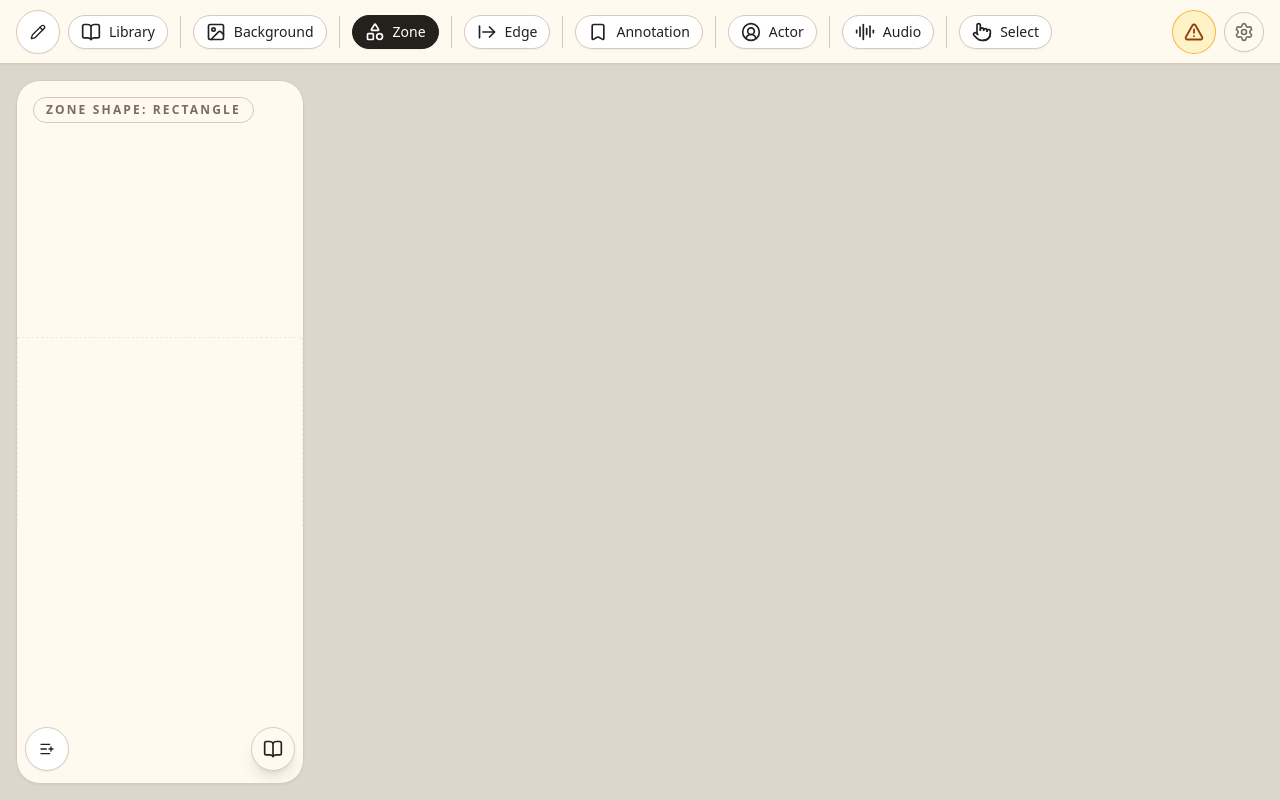
Test: Audio Library preview › offers only the opposite icon and shares changes with linked cards
This screenshot has width=1280, height=800.
Click the button "Library". click: (118, 32)
box: [68, 14, 168, 48]
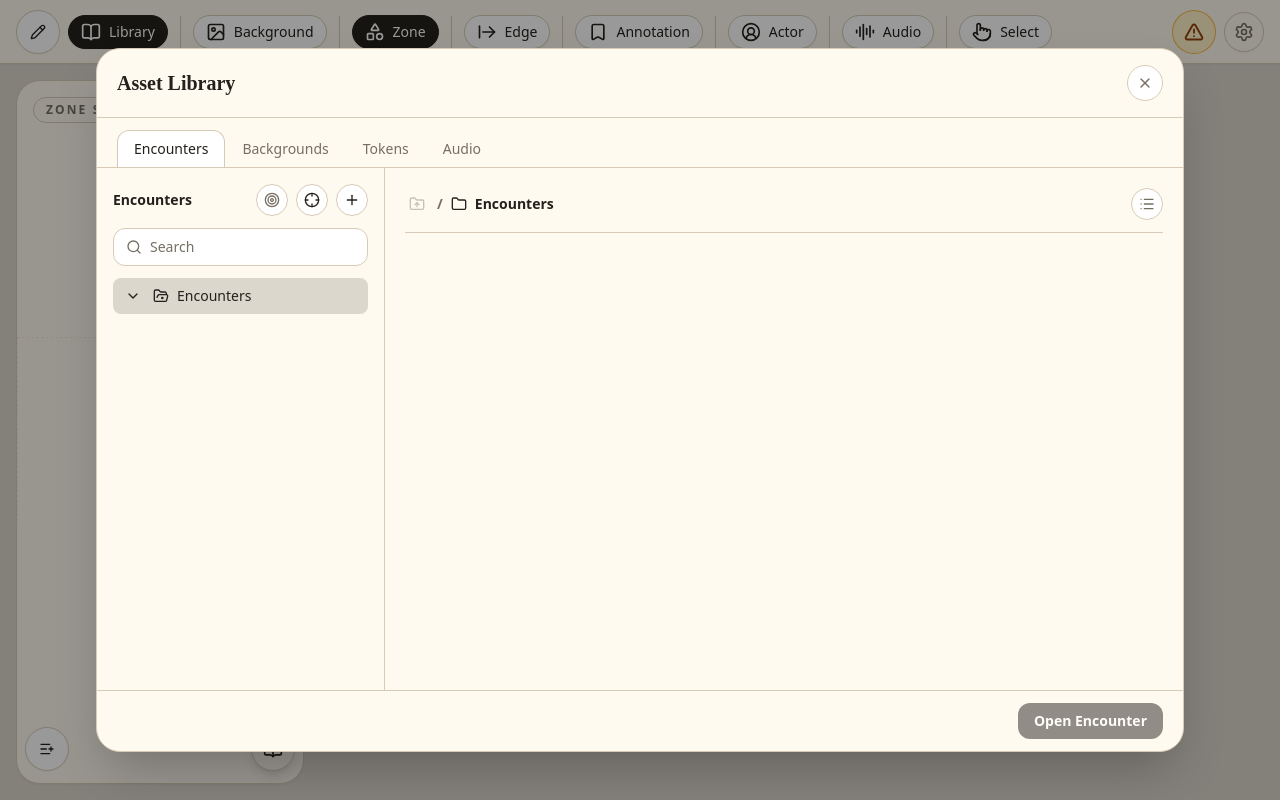
Click the tab "Audio". click: (462, 148)
box: [426, 130, 498, 167]
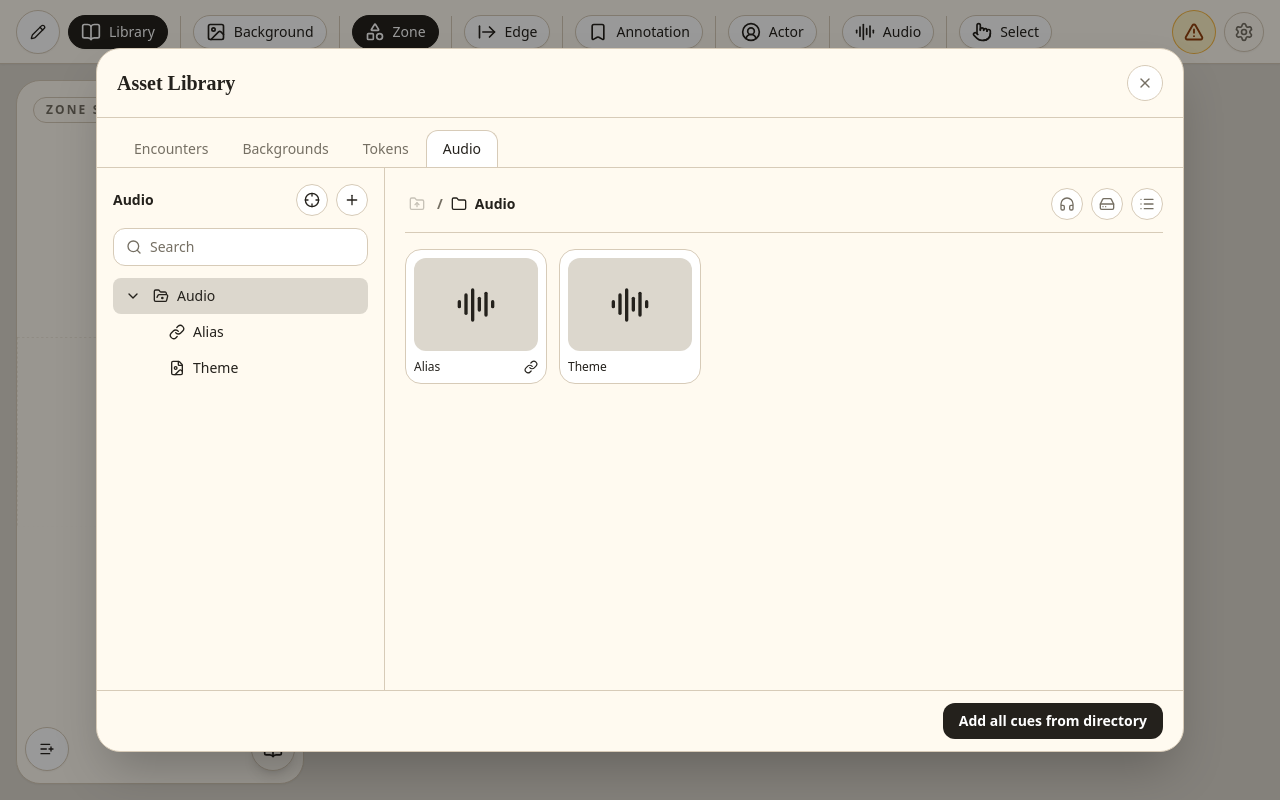
Right-click the button "Theme" at (630, 316), box [559, 249, 701, 384]
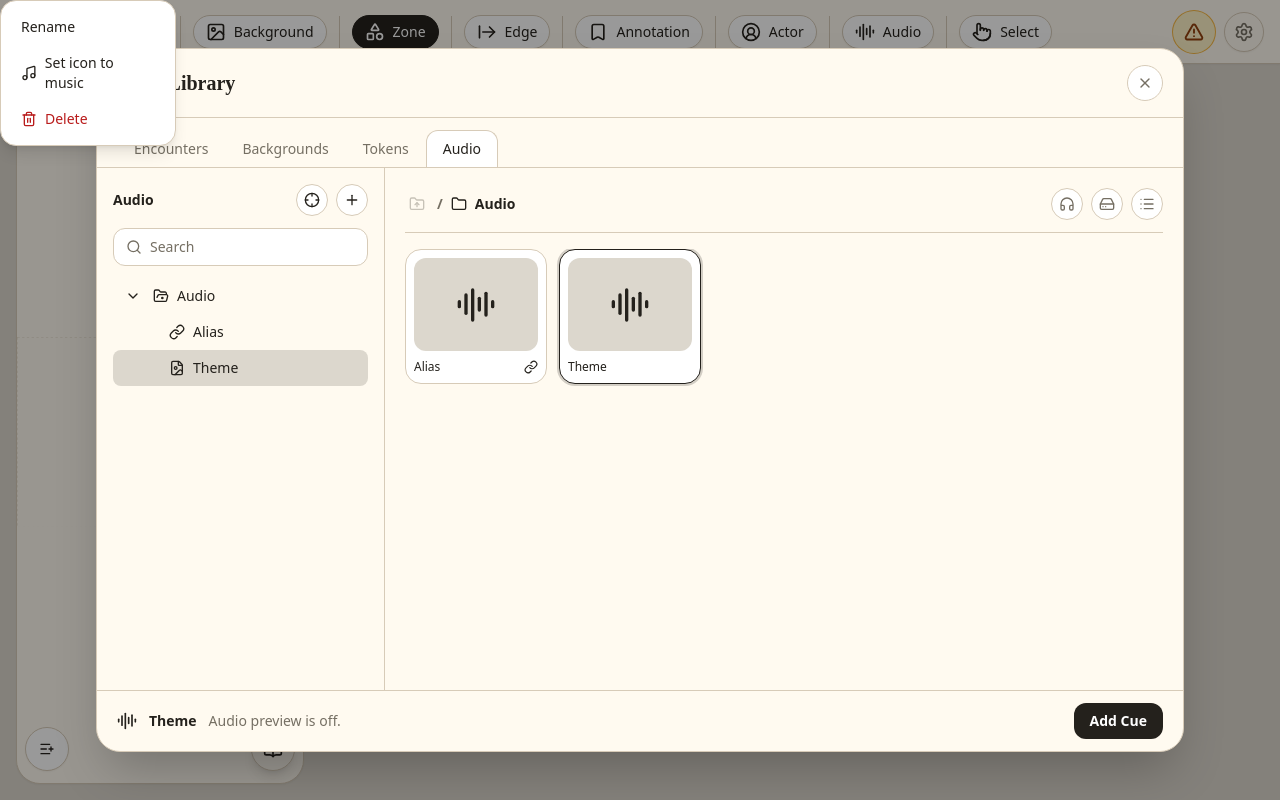
Click the menu item "Set icon to music". click: (88, 73)
box: [9, 45, 167, 101]
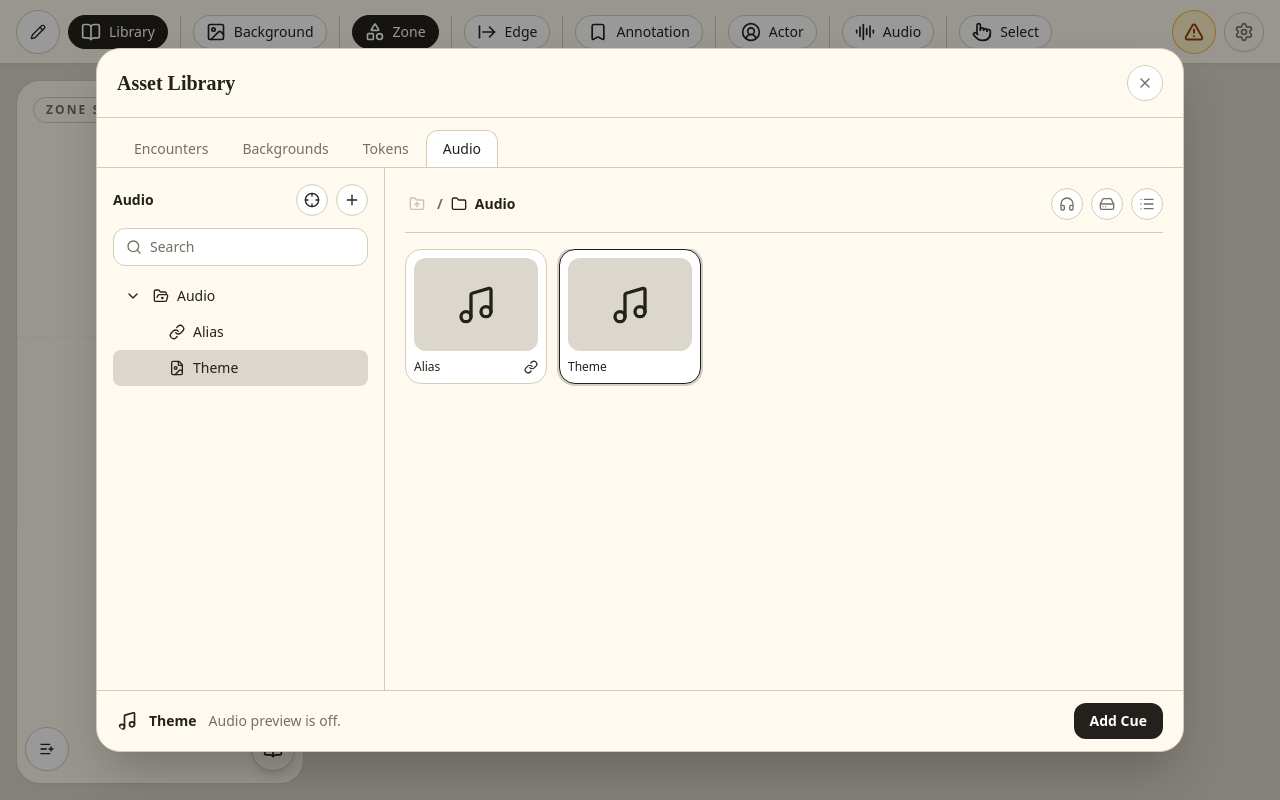
Now the 2nd picture named "Music asset" is shown, box [610, 284, 650, 324]
Now the 1st picture named "Music asset" is shown, box [456, 284, 496, 324]
Right-click the button "Alias" at (476, 316), box [405, 249, 547, 384]
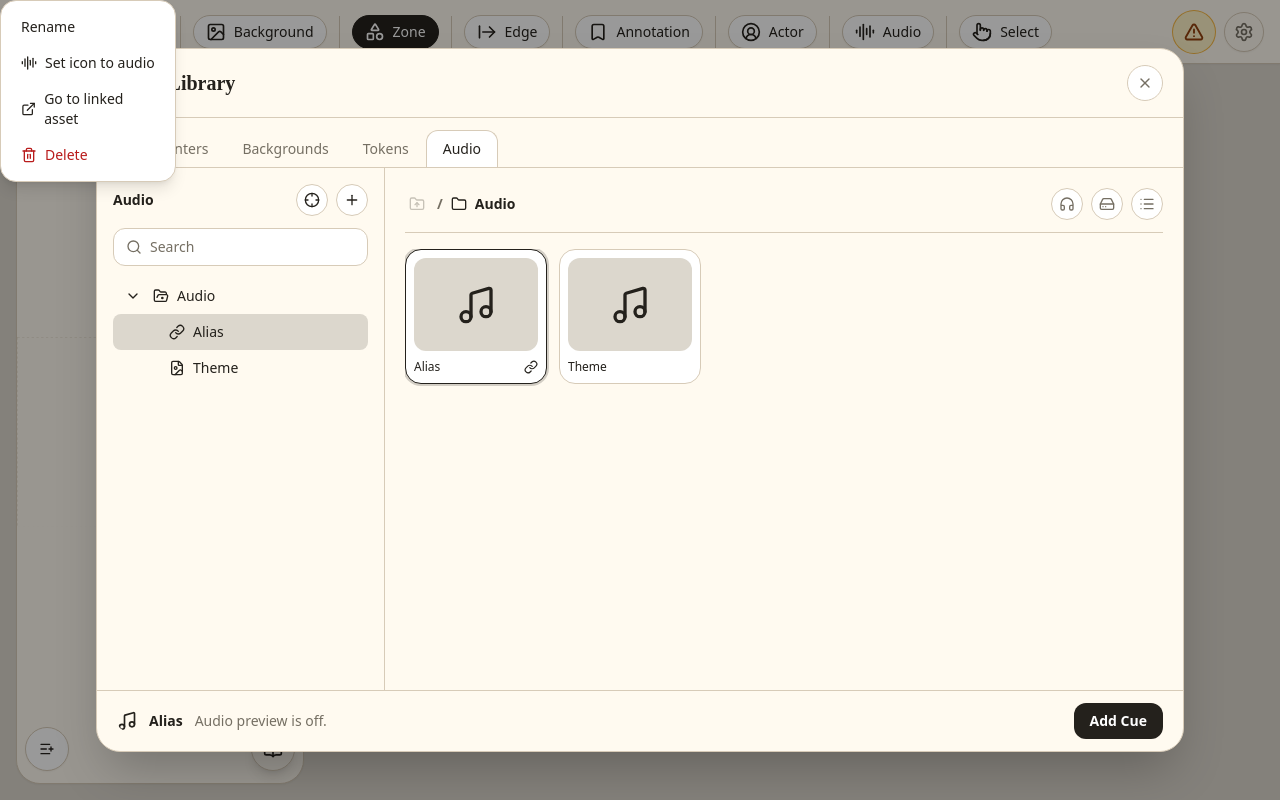
Expected: the menu item "Set icon to music" is not shown
Click the menu item "Set icon to audio". click: (88, 63)
box: [9, 45, 167, 81]
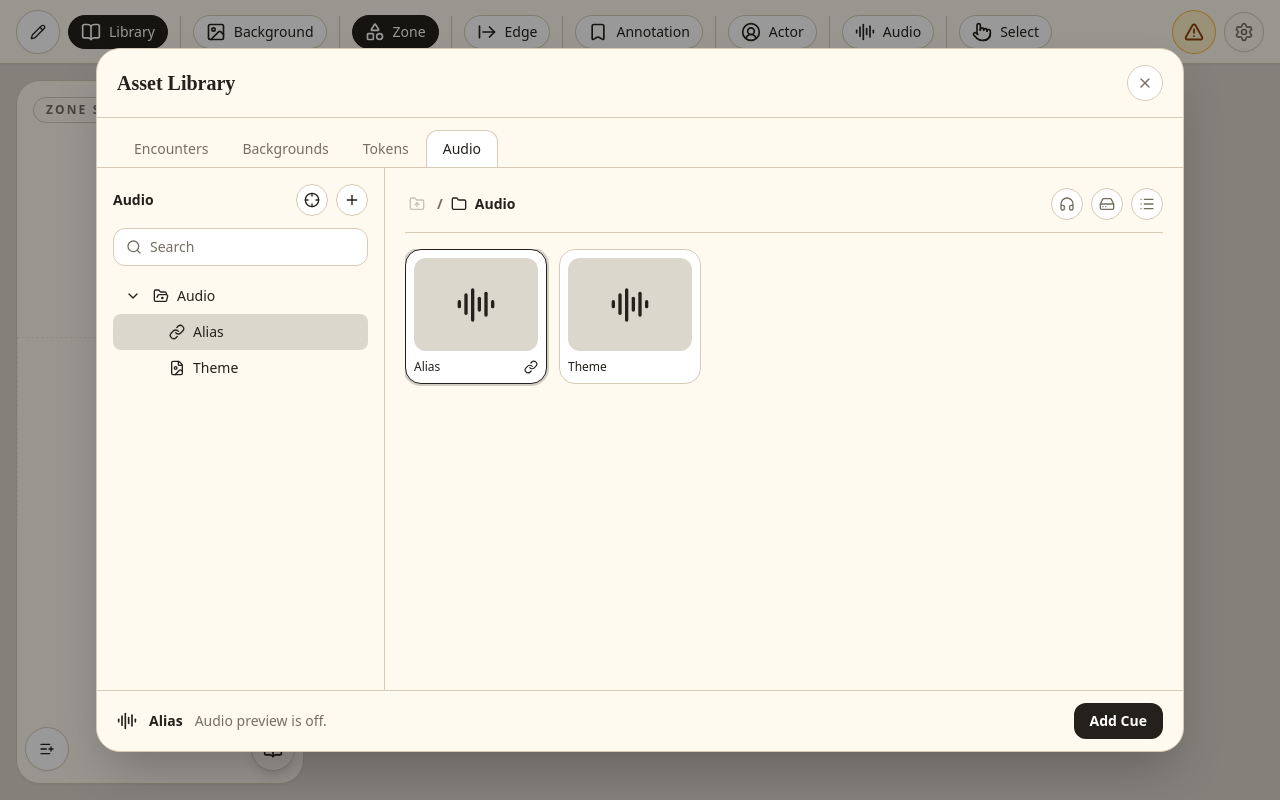
Now the 2nd picture named "Audio asset" is shown, box [610, 284, 650, 324]
Now the 1st picture named "Audio asset" is shown, box [456, 284, 496, 324]
